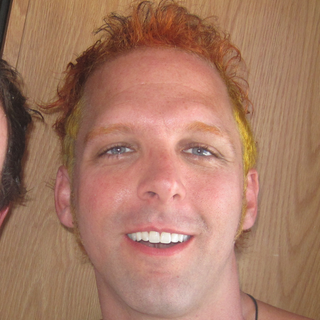eye: (177, 141, 226, 165), (94, 140, 142, 164)
